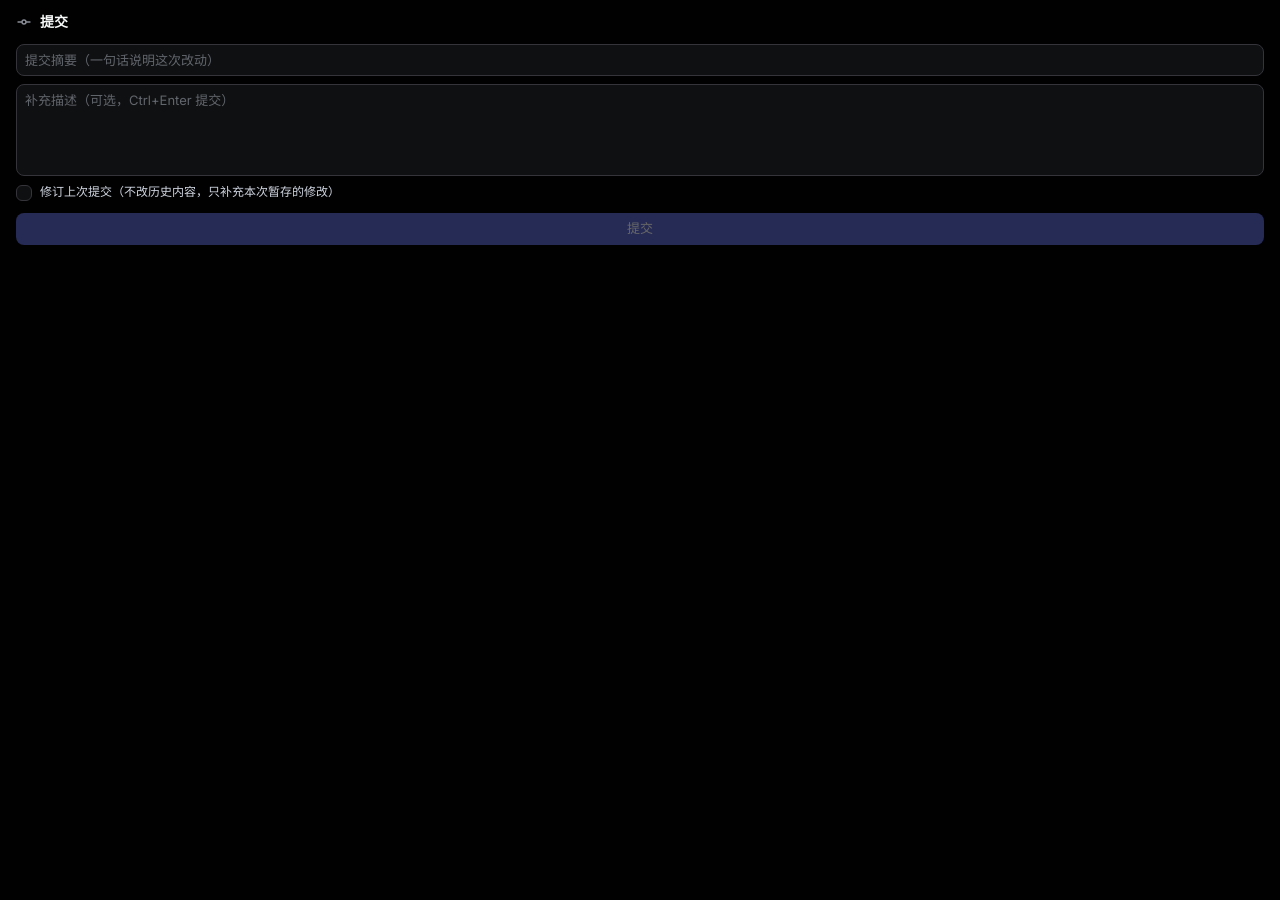
Test: CommitBox › commits the staged subject and clears the form
Type "my commit" into the field with test id "commit-subject" at (640, 60), box [16,44,1264,76]
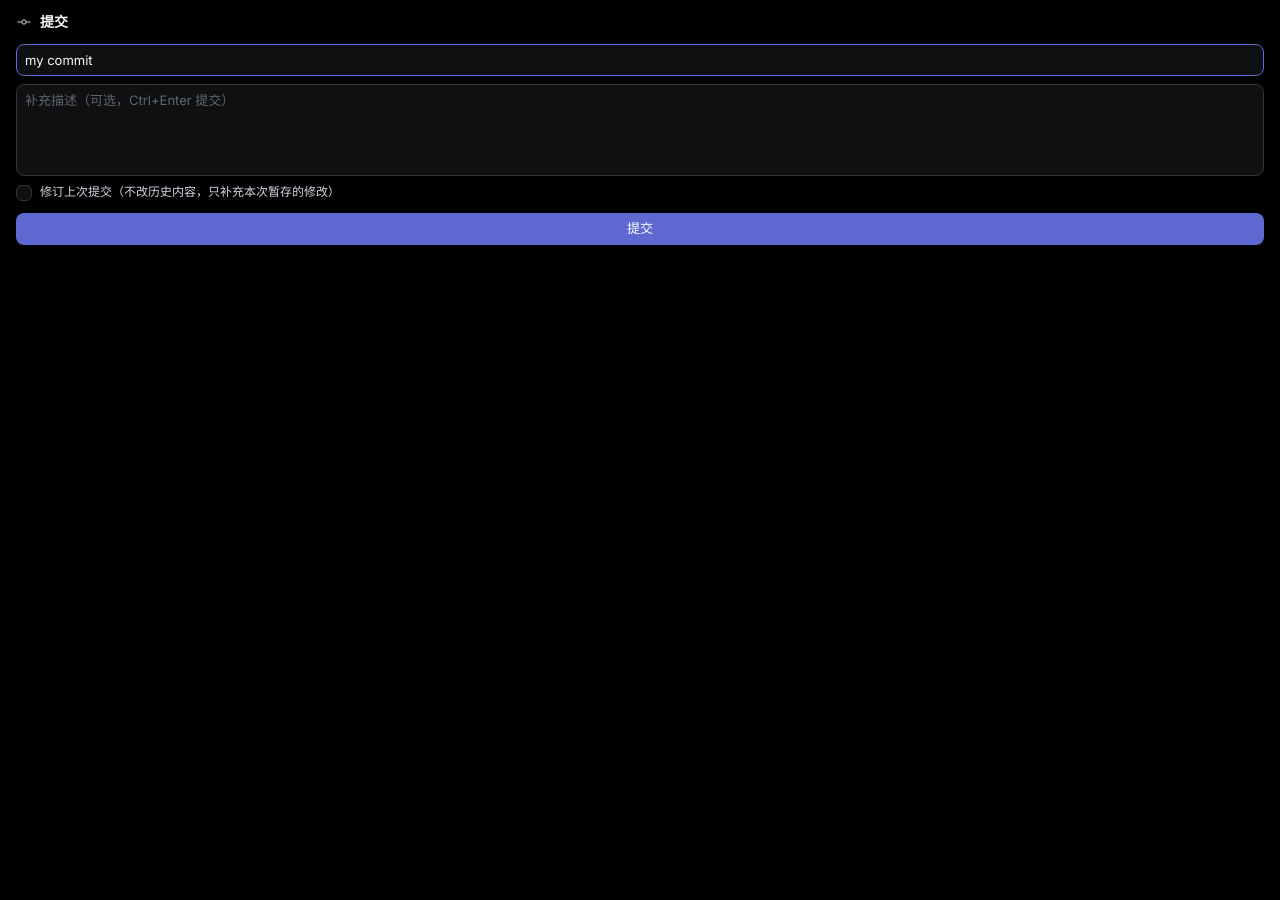
Click the button with test id "commit-submit" at (640, 229), box [16,213,1264,245]
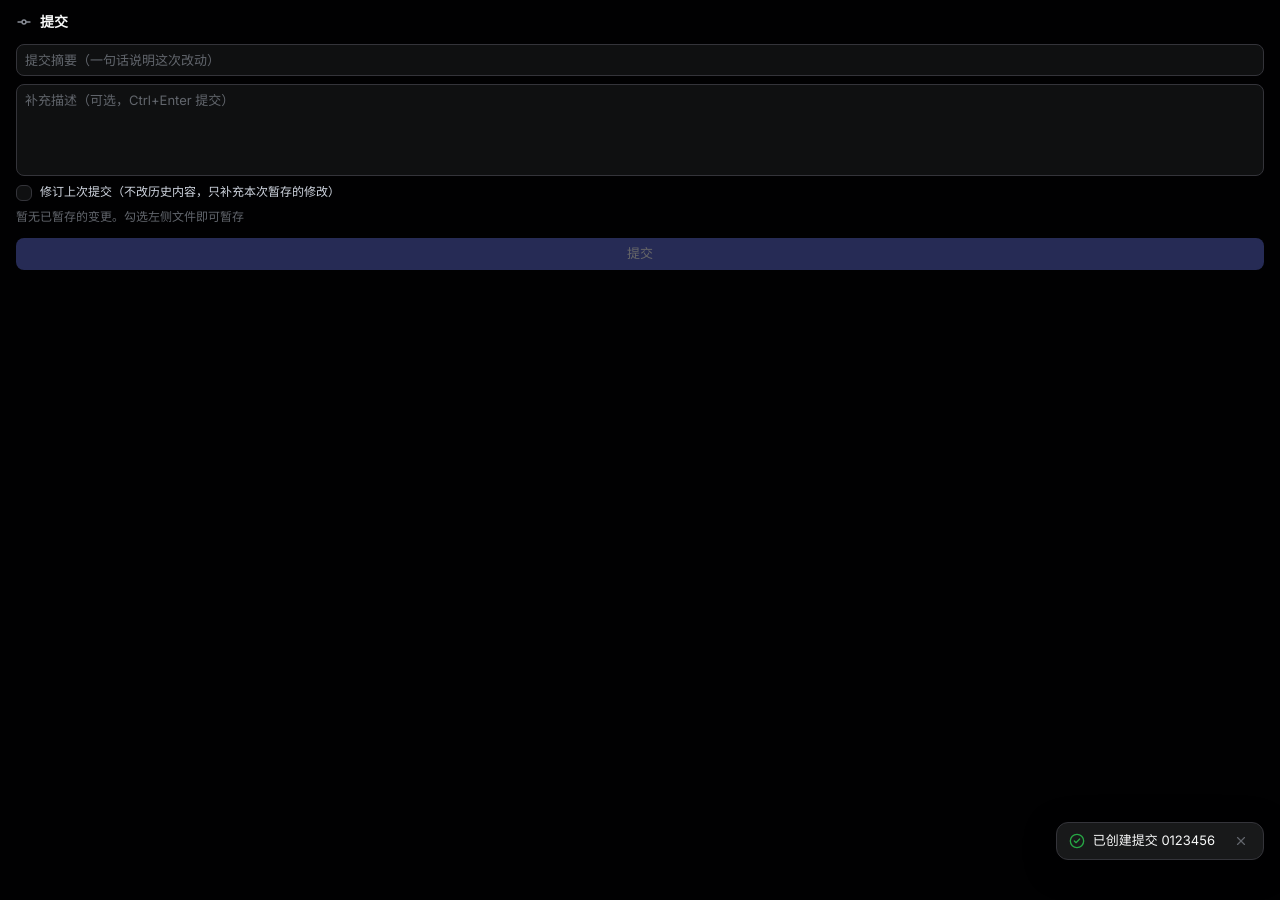
Check: the text "已创建提交 0123456" is shown, box [1093,831,1215,850]
Check: the field with test id "commit-subject" is empty, box [16,44,1264,76]
